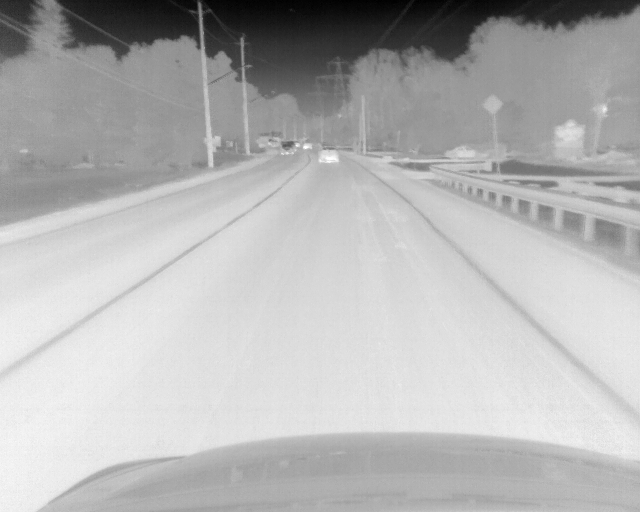car: (443, 144, 479, 160), (318, 145, 339, 164), (280, 141, 296, 157), (267, 137, 279, 147), (302, 140, 312, 150), (294, 140, 301, 148)
